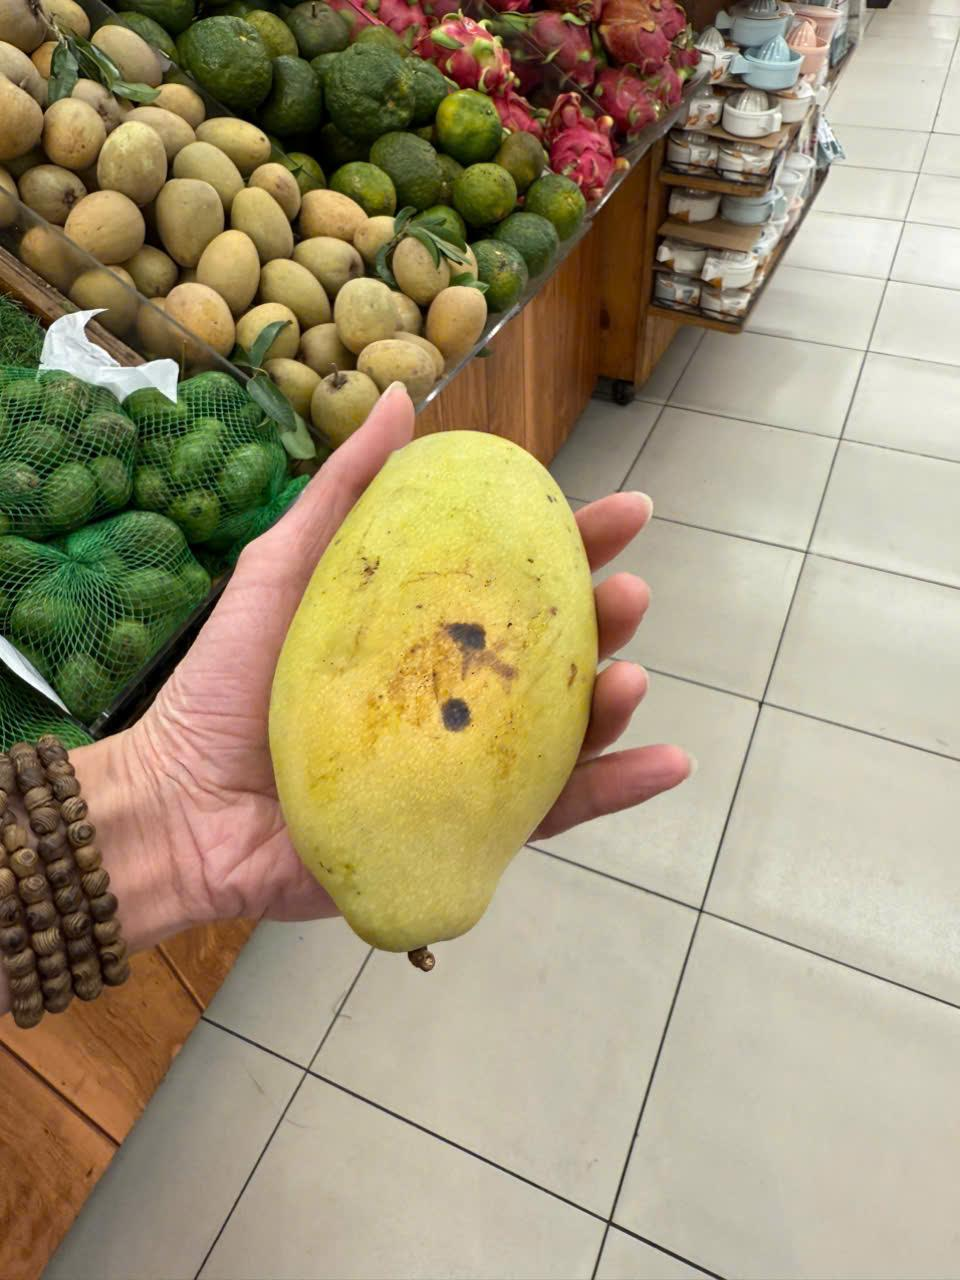mango: (270, 428, 598, 976)
